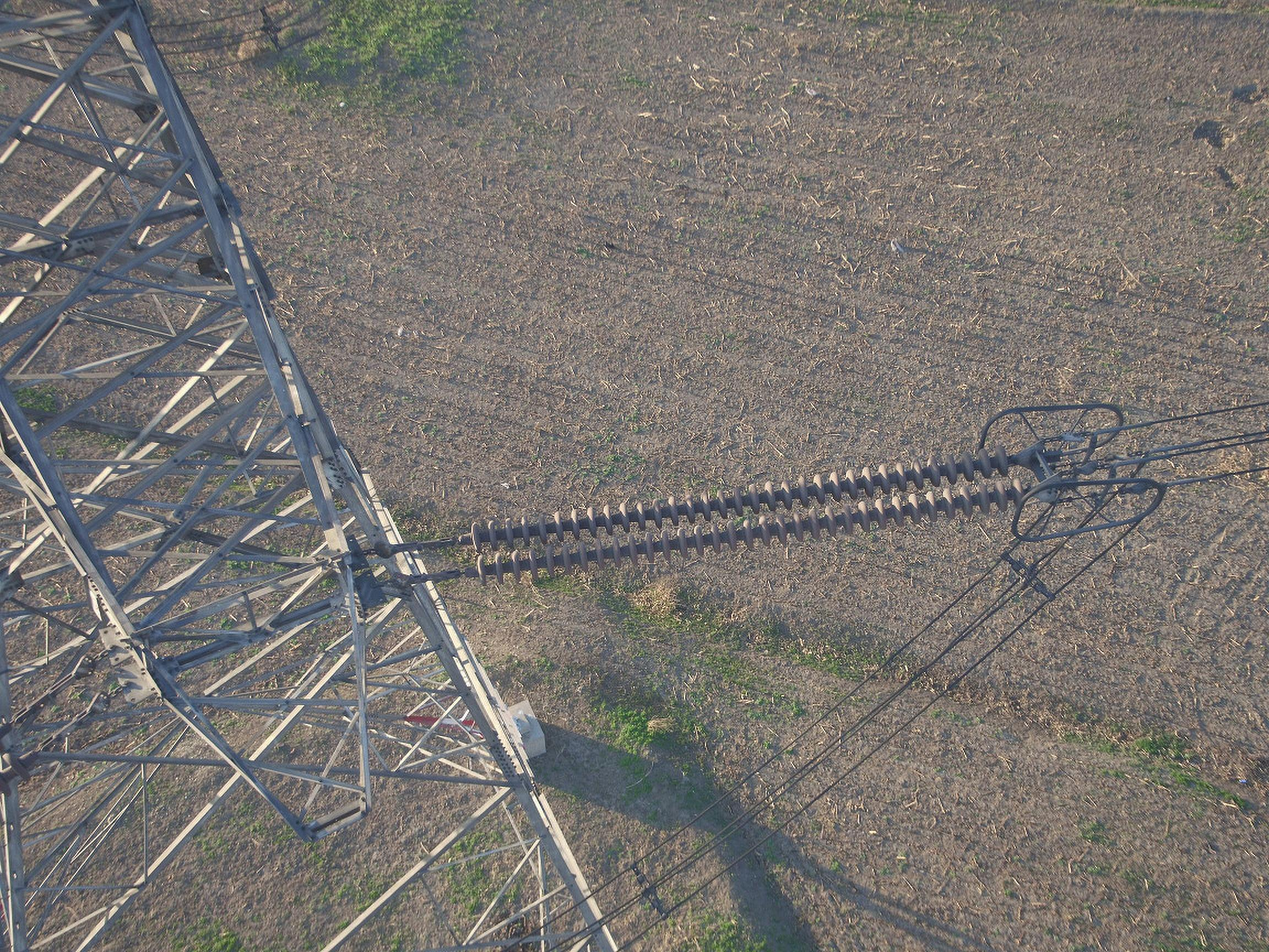insulator: (465, 442, 1027, 591)
